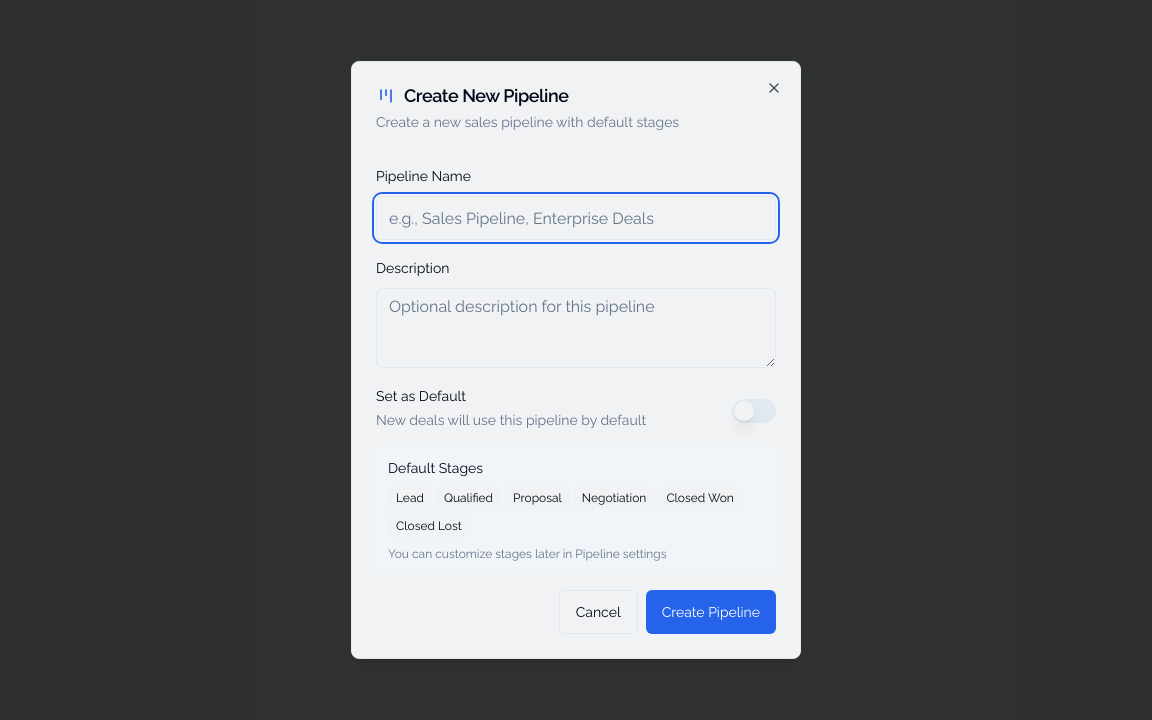
Test: CreatePipelineModal › shows pipeline-name validation inline
Click the button "Create Pipeline".
click(711, 612)  # box [646,590,776,634]
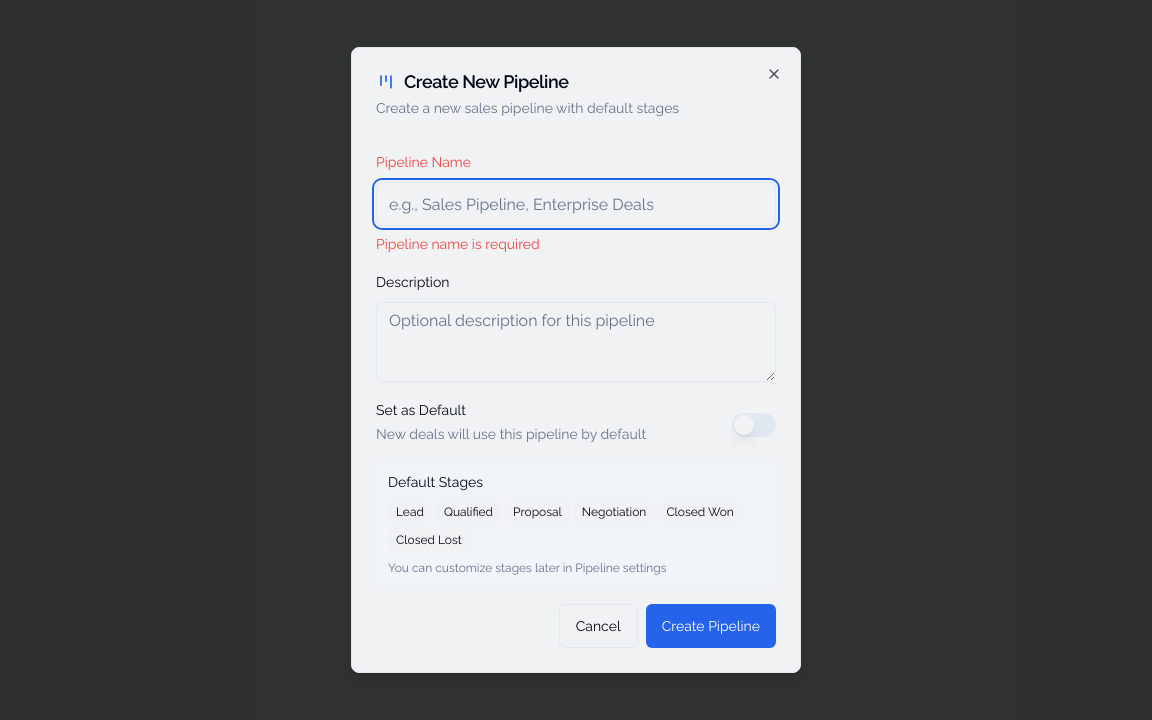
Expected: the text "Pipeline name is required" is shown, [376,236,540,252]
